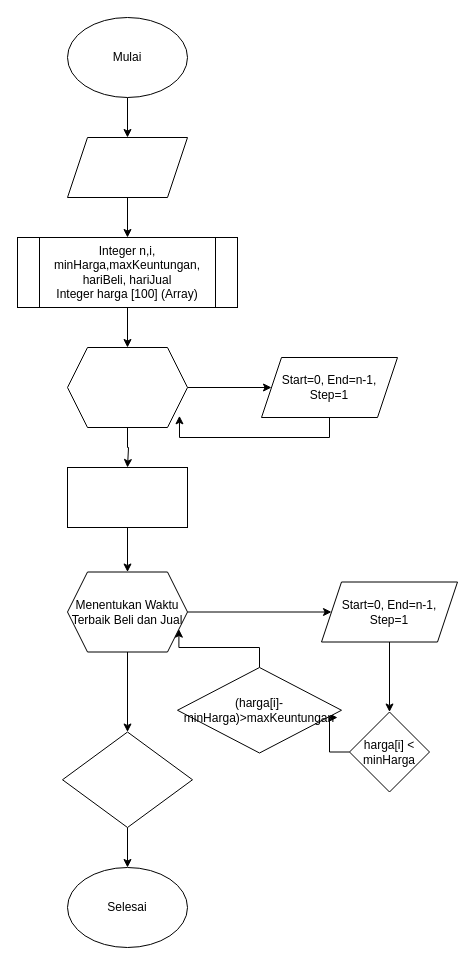
Some shapes in this 475 by 965 pixel diagram are drawn without their labels. The shapes that lost their labels are listed below. From the top down, each one's centre as x and y in pixels, then its label:
At [127,167]: "Input Jumlah Hari".
At [127,387]: "masukkan harga saham".
At [127,497]: "minHarga = harga [0] maxKeuntungan = 0 hariBeli = 0 hariJual 0".
At [127,779]: "maxKeuntungan>0".
